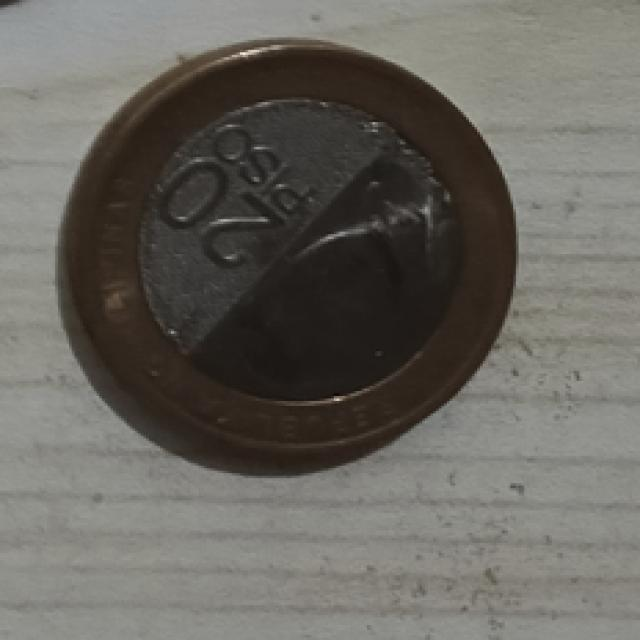20_peso: (63, 42, 513, 463)
